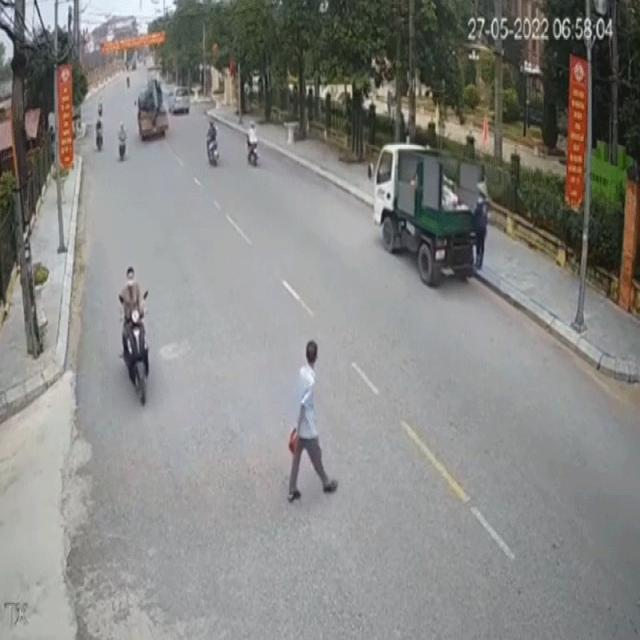normal: (366, 117, 507, 301), (97, 254, 161, 409), (196, 109, 270, 180)
